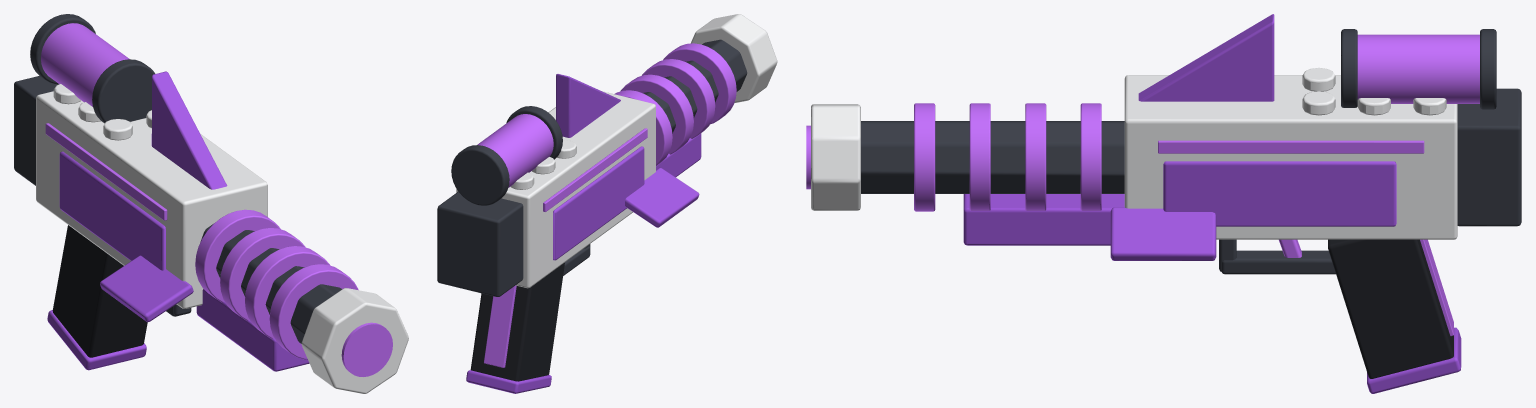
File: Blaster.fbx
3 views of the same model, side by side, from view 1: azimuth 30°, elevation 25°; view 2: azimuth 150°, elevation 25°; view 3: azimuth 270°, elevation 25° (orthographic). The views are drawn at different scales.
Visible parts, largest first — view 1: Blaster_SmoothPlastic, Blaster_Neon_c46eff, Blaster_Metal, Blaster_Plastic, Blaster_Glass_c46eff; view 2: Blaster_SmoothPlastic, Blaster_Metal, Blaster_Neon_c46eff, Blaster_Plastic, Blaster_Glass_c46eff; view 3: Blaster_SmoothPlastic, Blaster_Metal, Blaster_Neon_c46eff, Blaster_Plastic, Blaster_Glass_c46eff.
Part boxes in pixels (left/top/right/bottom): Blaster_SmoothPlastic: left=36, top=71, right=408, bottom=393; Blaster_Neon_c46eff: left=45, top=123, right=392, bottom=376; Blaster_Metal: left=14, top=14, right=341, bottom=343; Blaster_Plastic: left=52, top=225, right=147, bottom=357; Blaster_Glass_c46eff: left=41, top=23, right=129, bottom=106; Blaster_SmoothPlastic: left=456, top=14, right=777, bottom=393; Blaster_Metal: left=437, top=39, right=747, bottom=296; Blaster_Neon_c46eff: left=484, top=43, right=736, bottom=367; Blaster_Plastic: left=470, top=263, right=564, bottom=381; Blaster_Glass_c46eff: left=477, top=114, right=553, bottom=187; Blaster_SmoothPlastic: left=811, top=14, right=1461, bottom=393; Blaster_Metal: left=861, top=29, right=1521, bottom=274; Blaster_Neon_c46eff: left=806, top=103, right=1453, bottom=336; Blaster_Plastic: left=1328, top=239, right=1453, bottom=378; Blaster_Glass_c46eff: left=1357, top=34, right=1479, bottom=103.
Bounding box in the file's own units: 0.8085 × 1.44 × 2.58.
5 materials, 5 textured.
